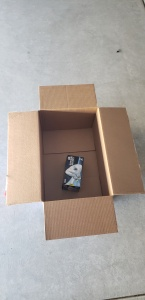innerbox: (38, 111, 111, 197)
outerbox: (8, 86, 144, 240)
product: (61, 155, 83, 192)
